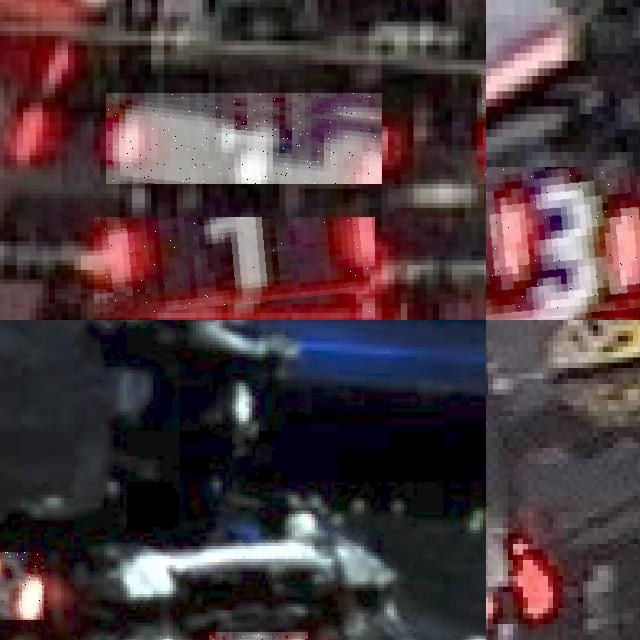R1: (94, 217, 375, 318), (106, 93, 382, 184)
R3: (486, 167, 640, 320)
Rs: (0, 552, 44, 619)
